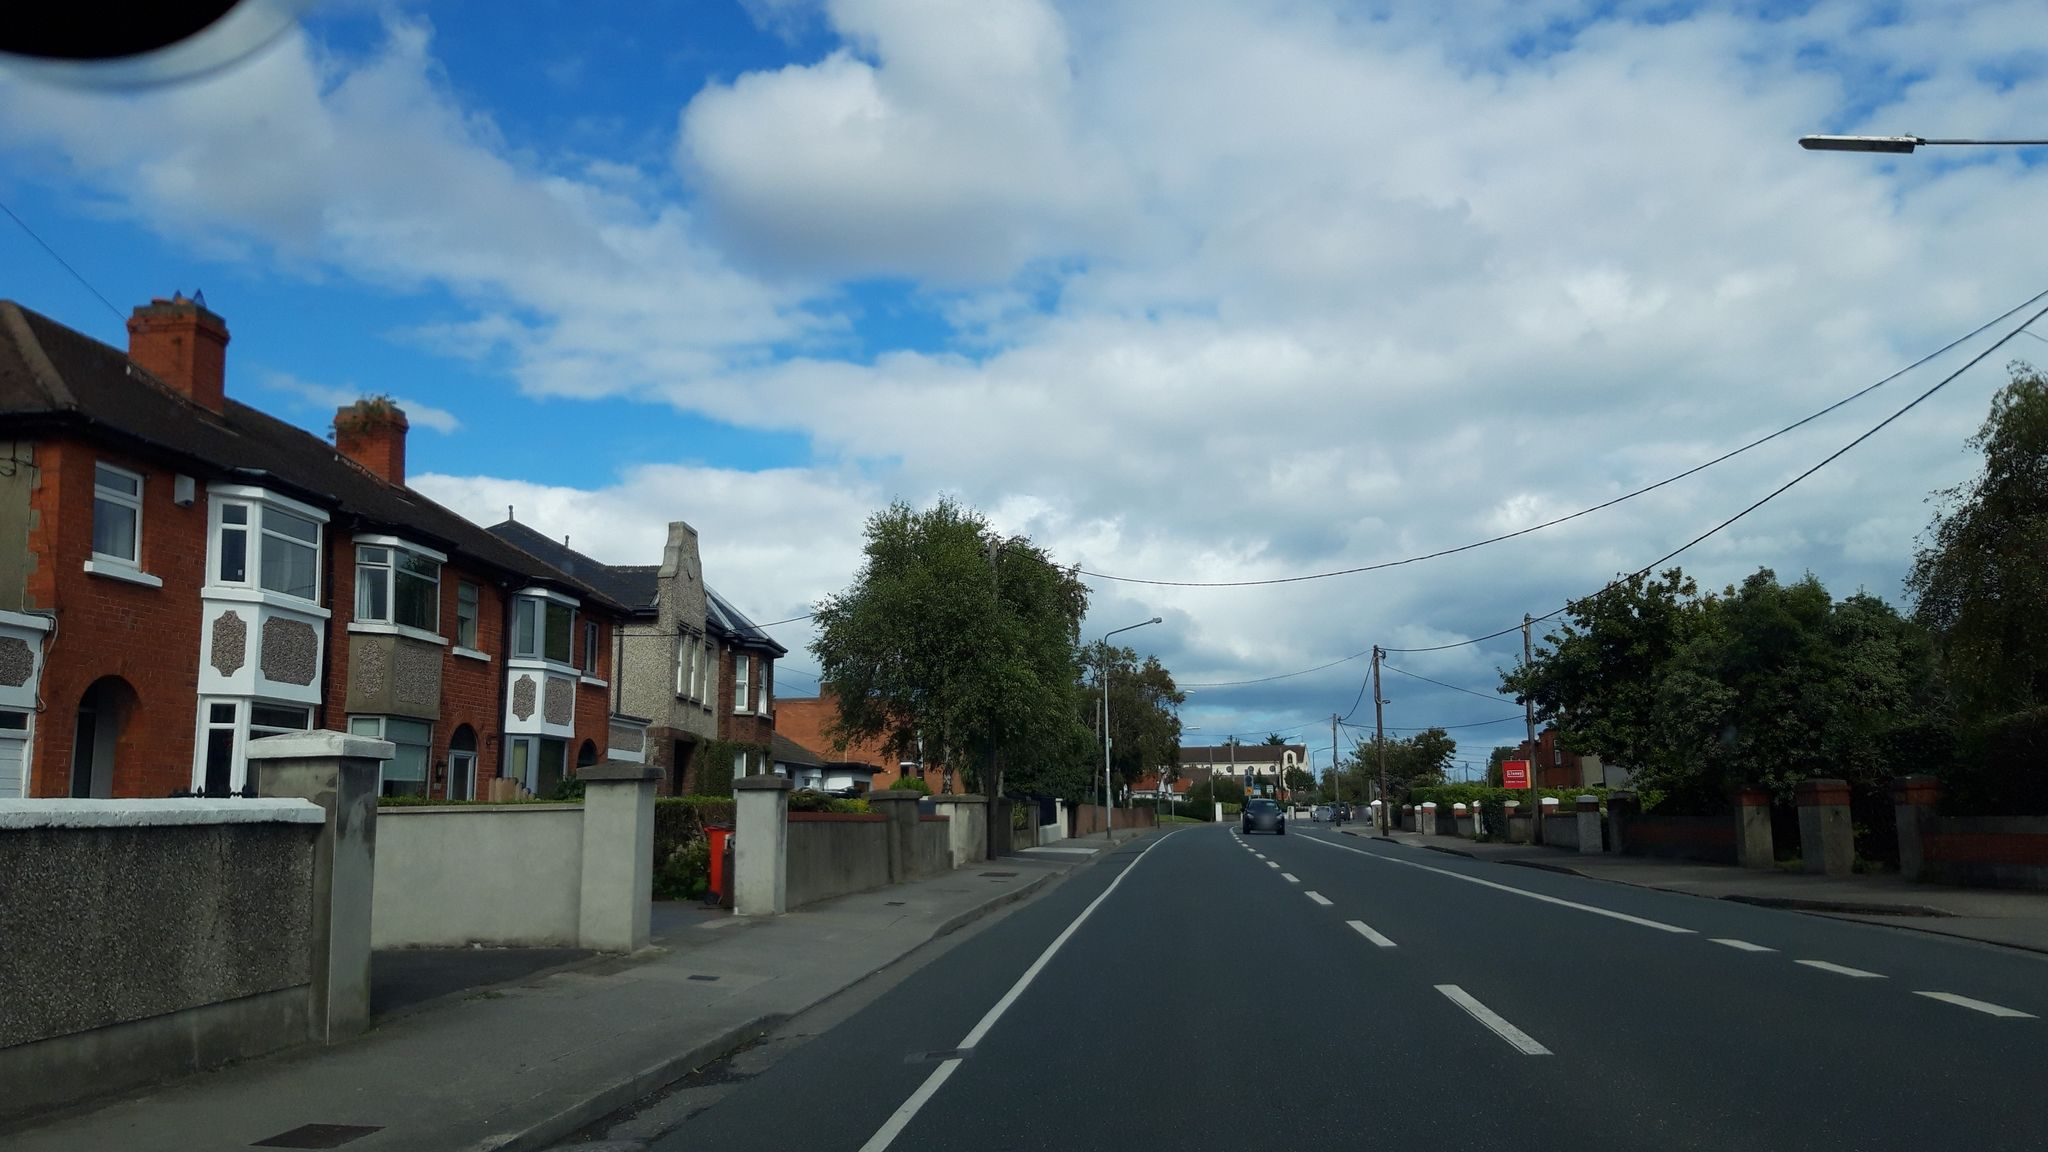property sign: (1492, 748, 1544, 798)
